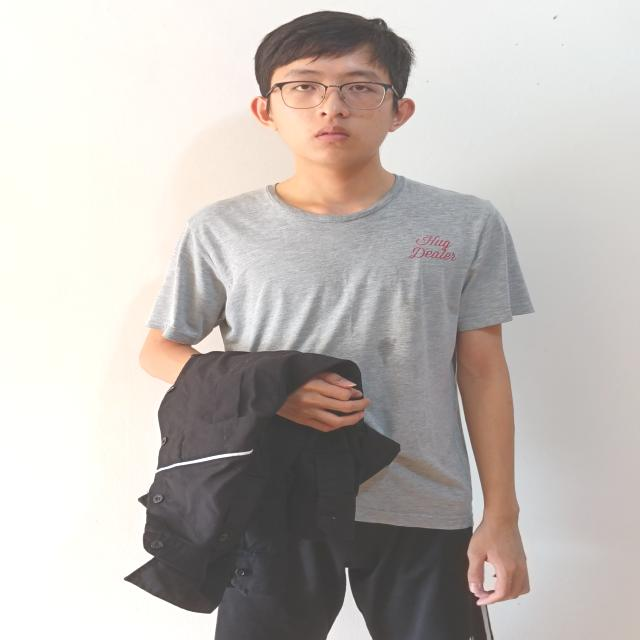person_without_labcoat: (126, 11, 532, 640)
